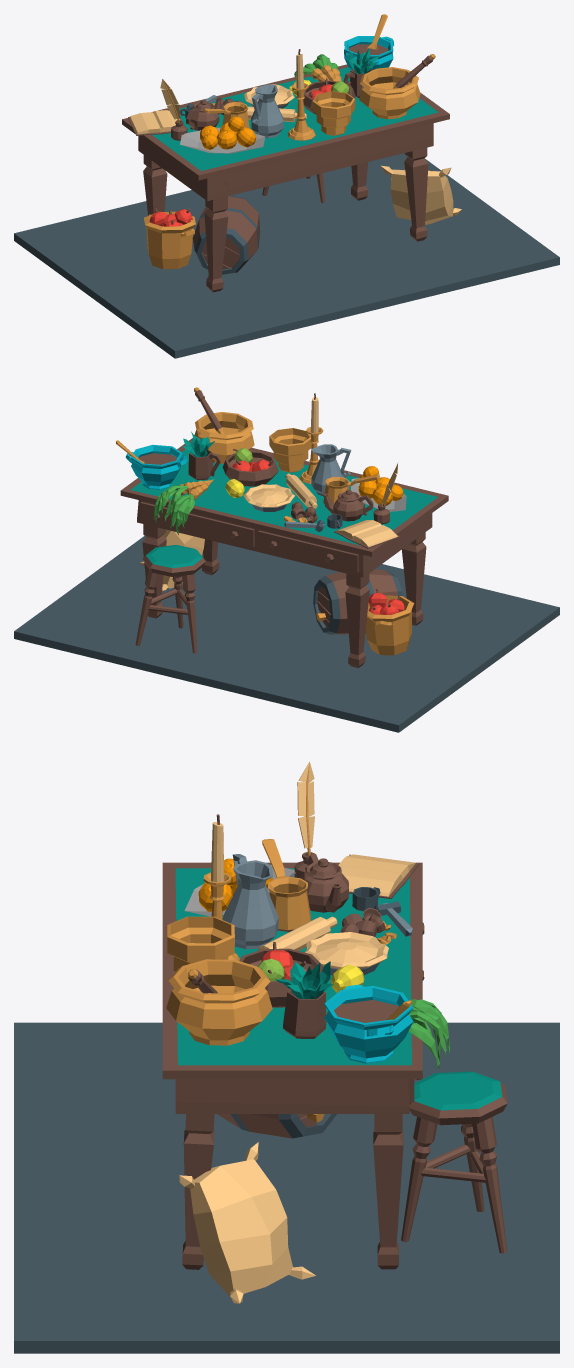
3 renders of one model, top to bottom at view 1: azimuth 30°, elevation 25°; view 2: azimuth 150°, elevation 25°; view 3: azimuth 270°, elevation 25°, orthographic. The views are drawn at different scales.
Visible parts, largest first — view 1: group1636358073, group1408092273, group480967475, group1778453459, group1885818189, group1514780482, group436849853, group1110464148, group207404798, group1135272312, group150217312, group717896419 (+10 smaller); view 2: group1636358073, group1408092273, group2001912568, group480967475, group1778453459, group717896419, group1885818189, group1169867120, group1057983476, group1110464148, group1135272312, group436849853 (+14 smaller); view 3: group1636358073, group1408092273, group1514780482, group2001912568, group1885818189, group717896419, group1155444155, group150217312, group1414039194, group1135272312, group207404798, group1663536036 (+10 smaller).
Boxes of the visible parts, box(x1,y1,x2,y2) form: group1636358073: box(14, 153, 559, 358); group1408092273: box(122, 64, 449, 200); group480967475: box(192, 195, 260, 274); group1778453459: box(144, 208, 195, 269); group1885818189: box(359, 67, 420, 119); group1514780482: box(381, 165, 461, 224); group436849853: box(180, 116, 265, 153); group1110464148: box(204, 180, 228, 292); group207404798: box(404, 147, 428, 241); group1135272312: box(312, 91, 355, 135); group150217312: box(251, 84, 283, 138); group717896419: box(344, 14, 393, 69); group1636358073: box(14, 536, 559, 732); group1408092273: box(120, 438, 448, 577); group2001912568: box(135, 545, 205, 653); group480967475: box(313, 569, 402, 634); group1778453459: box(365, 589, 414, 655); group717896419: box(116, 440, 187, 489); group1885818189: box(194, 412, 254, 463); group1169867120: box(345, 573, 369, 667); group1057983476: box(222, 448, 278, 486); group1110464148: box(402, 532, 426, 625); group1135272312: box(269, 428, 311, 472); group436849853: box(351, 466, 406, 511); group1636358073: box(14, 1022, 559, 1353); group1408092273: box(162, 862, 422, 1113); group1514780482: box(179, 1142, 315, 1303); group2001912568: box(401, 1071, 507, 1253); group1885818189: box(166, 959, 272, 1045); group717896419: box(324, 984, 413, 1063); group1155444155: box(373, 1114, 403, 1269); group150217312: box(222, 854, 278, 949); group1414039194: box(275, 961, 333, 1038); group1135272312: box(167, 916, 234, 971); group207404798: box(182, 1114, 214, 1269); group1663536036: box(304, 932, 388, 975).
Bounding box in the file's own units: 3.2 × 1.75 × 2.32.
